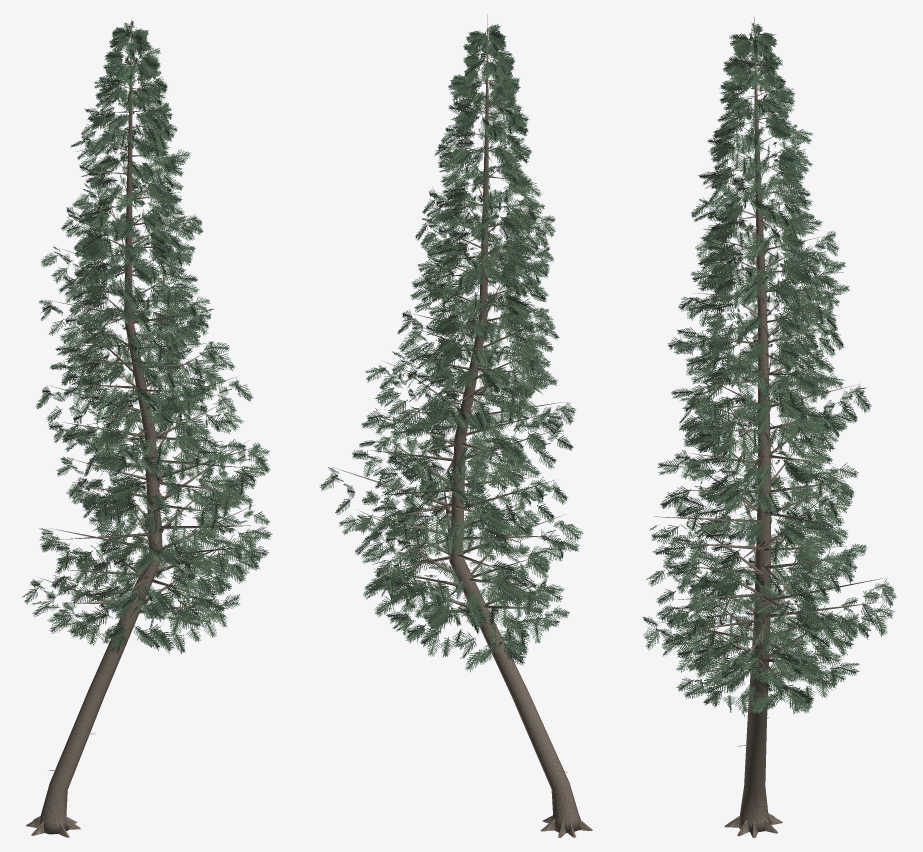
The model's file is SS_Defect_Bent_PostMature_02_LOD2.fbx.
3 views of the same model, side by side, from view 1: azimuth 30°, elevation 25°; view 2: azimuth 150°, elevation 25°; view 3: azimuth 270°, elevation 25° (orthographic). The views are drawn at different scales.
Parts seen in each view (by area): view 1: SS_Defect_Bent_PostMature_02_LOD2_Foliage, SS_Defect_Bent_PostMature_02_LOD2_Trunk, SS_Defect_Bent_PostMature_02_LOD2_Branches; view 2: SS_Defect_Bent_PostMature_02_LOD2_Foliage, SS_Defect_Bent_PostMature_02_LOD2_Trunk, SS_Defect_Bent_PostMature_02_LOD2_Branches; view 3: SS_Defect_Bent_PostMature_02_LOD2_Foliage, SS_Defect_Bent_PostMature_02_LOD2_Trunk, SS_Defect_Bent_PostMature_02_LOD2_Branches.
Part boxes in pixels (x1,y1,x2,y2): SS_Defect_Bent_PostMature_02_LOD2_Foliage: (22,21,272,653); SS_Defect_Bent_PostMature_02_LOD2_Trunk: (26,19,162,837); SS_Defect_Bent_PostMature_02_LOD2_Branches: (39,35,254,771); SS_Defect_Bent_PostMature_02_LOD2_Foliage: (319,24,583,672); SS_Defect_Bent_PostMature_02_LOD2_Trunk: (449,15,592,837); SS_Defect_Bent_PostMature_02_LOD2_Branches: (334,31,567,772); SS_Defect_Bent_PostMature_02_LOD2_Foliage: (642,23,897,716); SS_Defect_Bent_PostMature_02_LOD2_Trunk: (724,17,782,837); SS_Defect_Bent_PostMature_02_LOD2_Branches: (654,33,884,746).
Size of the model in its own units: 1066 by 3100 by 948.
Materials: 2 (2 with a texture image).
